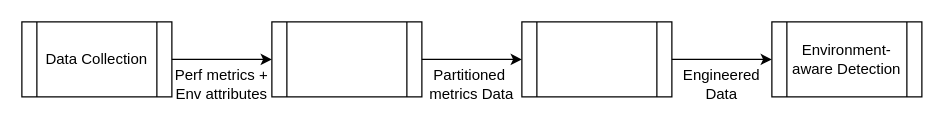
Image size: 944x124. Some labels were removed from this diagram. Here are the shapes that lost their labels. From the top down, the box of each, then its label:
(271, 21, 422, 97): Data Partitioning
(521, 21, 672, 97): Data Processing
